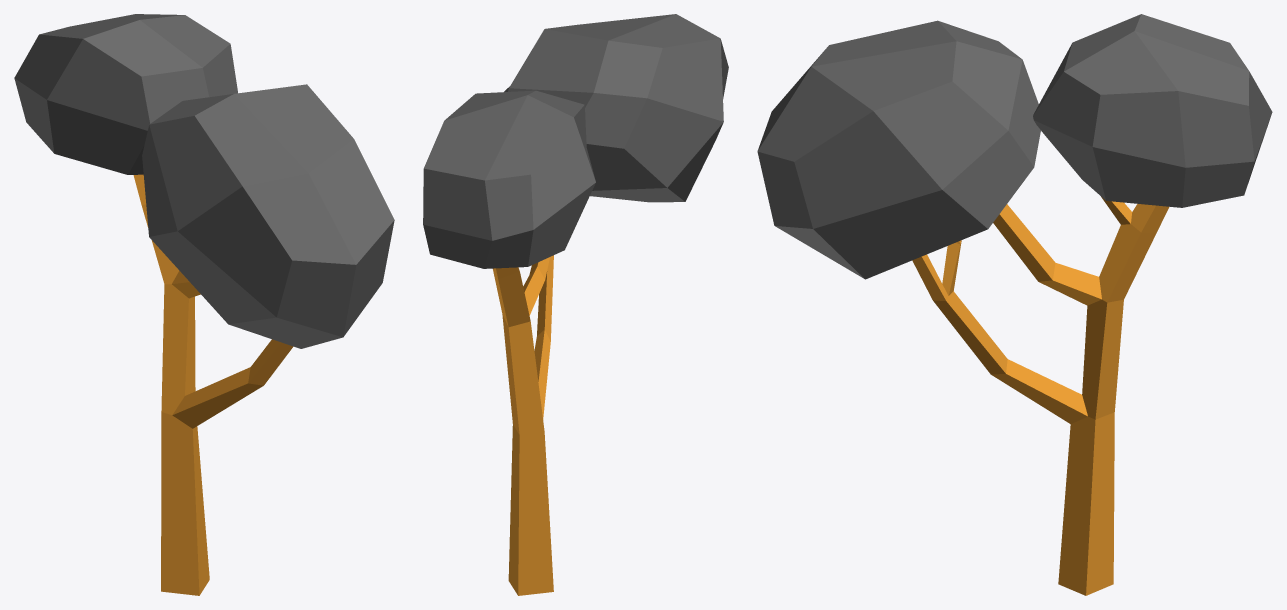
The model's file is oak_1.obj.
3 views of the same model, side by side, from view 1: azimuth 30°, elevation 25°; view 2: azimuth 150°, elevation 25°; view 3: azimuth 270°, elevation 25° (orthographic). The views are drawn at different scales.
Visible parts, largest first — view 1: oak_1; view 2: oak_1; view 3: oak_1.
Boxes of the visible parts, x1,y1,x2,y2 form: oak_1: (14, 14, 394, 595); oak_1: (423, 14, 728, 595); oak_1: (757, 14, 1272, 595).
Size of the model in its own units: 11.07 by 27.55 by 23.68.
